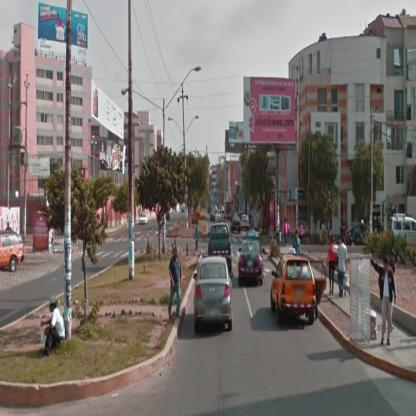Peaton: (369, 251, 398, 347), (169, 245, 183, 323), (338, 237, 349, 299), (328, 236, 337, 298), (294, 229, 303, 257), (196, 221, 200, 251), (285, 220, 289, 247)
Pista: (153, 218, 374, 414), (1, 213, 186, 328)
Vehiculo: (193, 254, 237, 338), (272, 251, 318, 330), (238, 240, 265, 287), (1, 229, 26, 275), (209, 224, 233, 270), (346, 218, 372, 246), (231, 217, 242, 235), (242, 213, 250, 230), (140, 216, 149, 227)
